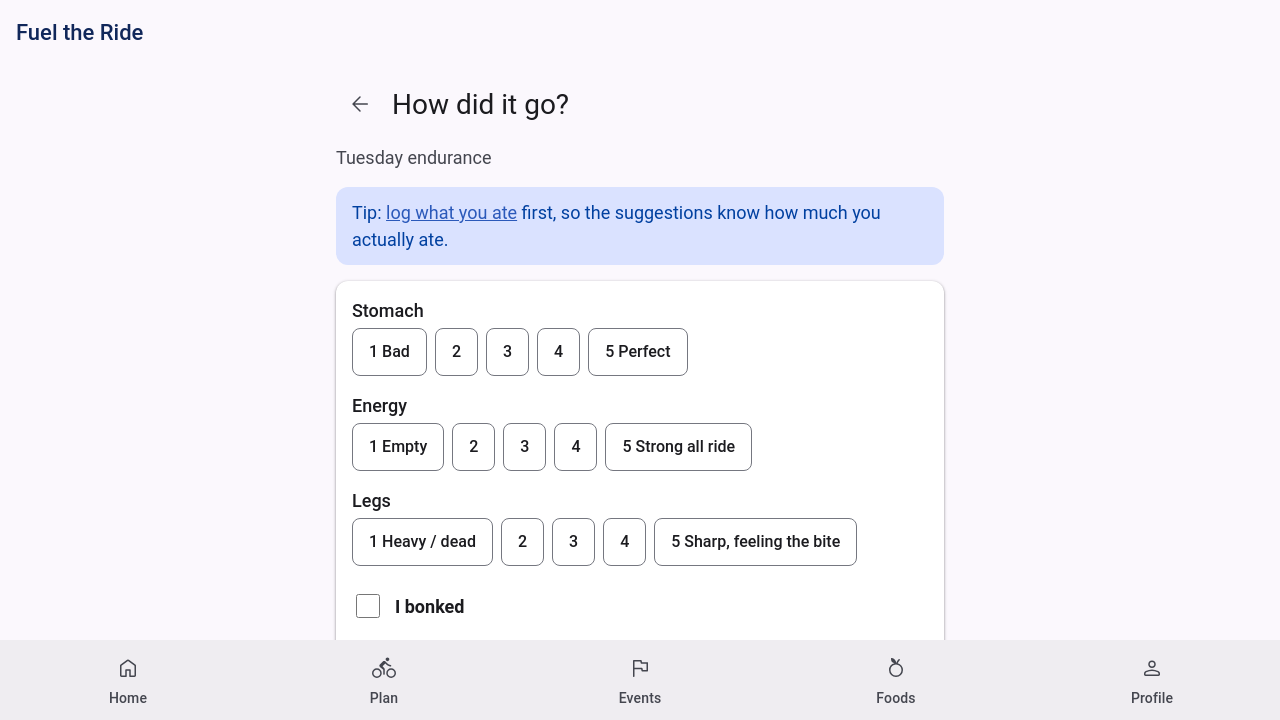
it: check-in › all three scores are required
What coordinates should you click on to do the following:
click the radio button labelled "4" next to "5 Perfect"
I would click on:
 (559, 352)
Its box is [537,328,580,376].
(page scrolled)
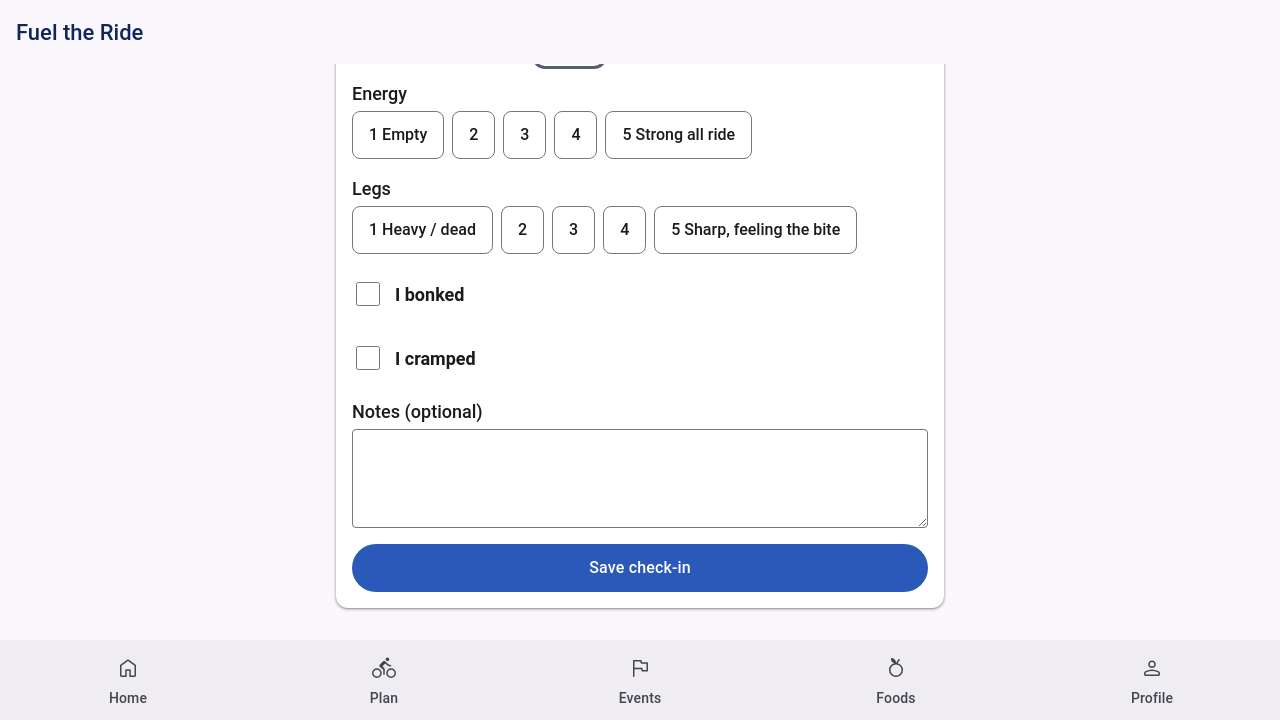
What coordinates should you click on to do the following:
click the button "Save check-in"
I would click on:
 (640, 568)
Its box is [352,544,928,592].
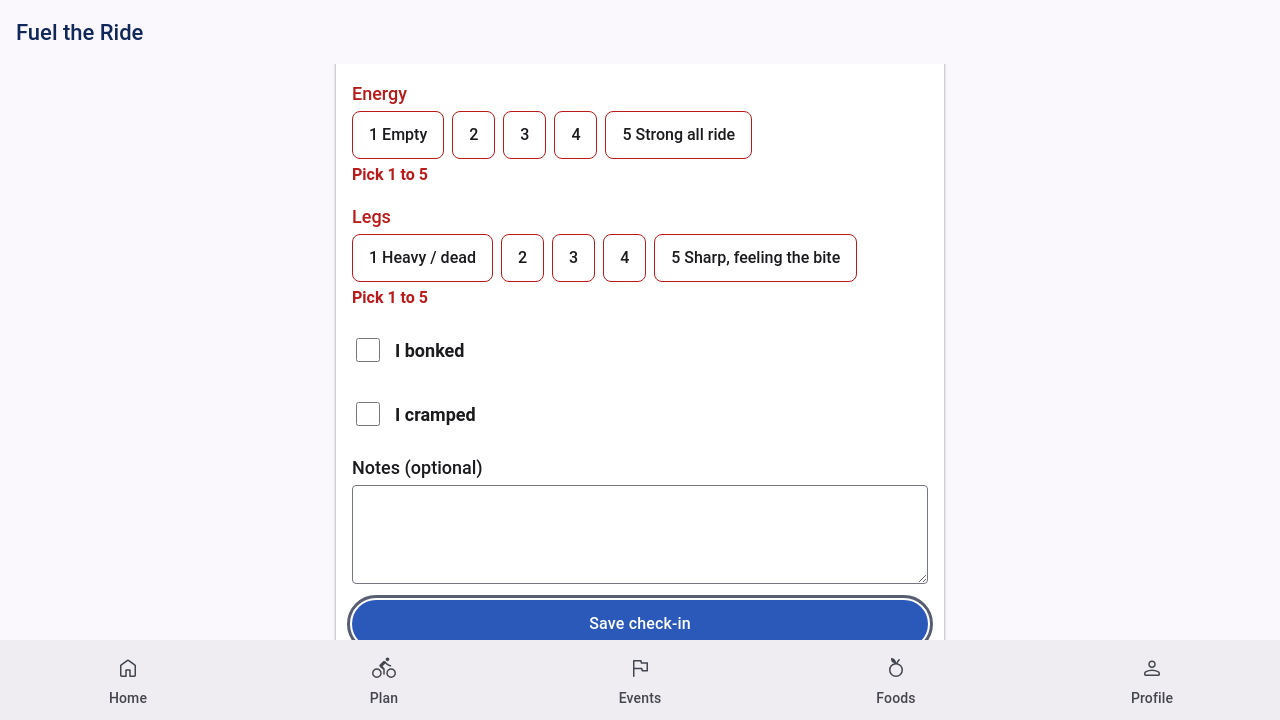
Expected: the text "Pick 1 to 5" is shown 2 times, [352,165,428,184]; [352,288,428,307]
